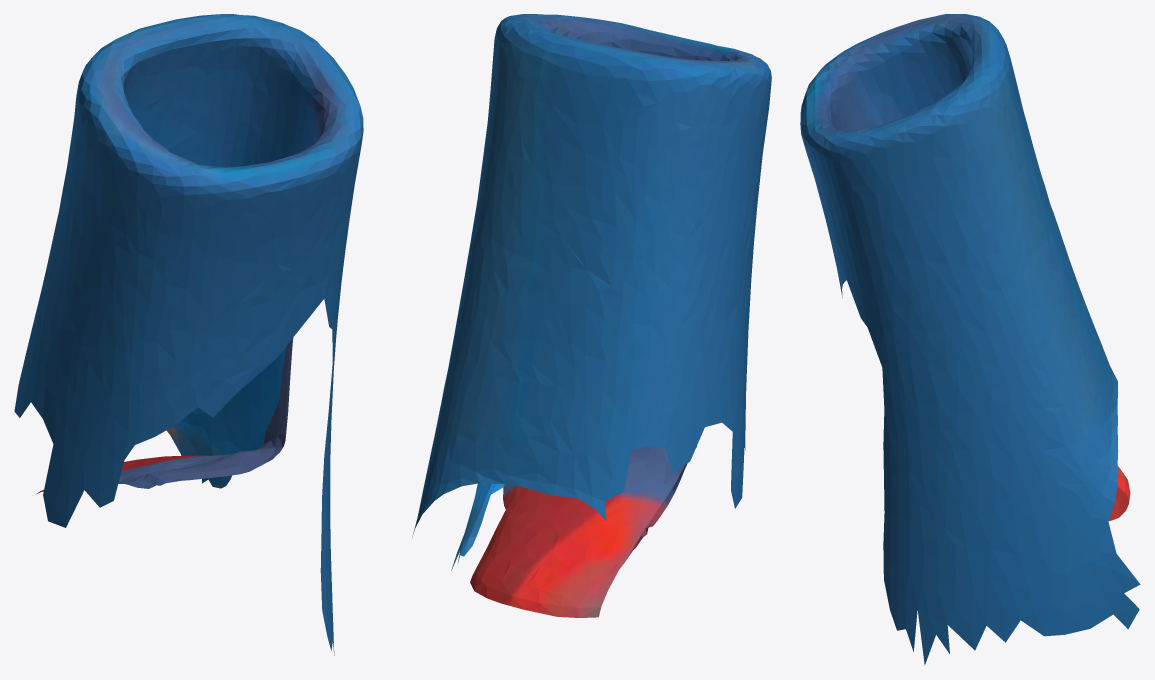
3 renders of one model, left to right at view 1: azimuth 30°, elevation 25°; view 2: azimuth 150°, elevation 25°; view 3: azimuth 270°, elevation 25°, orthographic. The views are drawn at different scales.
Visible parts, largest first — view 1: tripo_mesh_045d8eb0-72ec-4624-9759-a425f321d17a; view 2: tripo_mesh_045d8eb0-72ec-4624-9759-a425f321d17a; view 3: tripo_mesh_045d8eb0-72ec-4624-9759-a425f321d17a.
Part boxes in pixels (x1,y1,x2,y2): tripo_mesh_045d8eb0-72ec-4624-9759-a425f321d17a: (14, 14, 363, 655); tripo_mesh_045d8eb0-72ec-4624-9759-a425f321d17a: (412, 14, 771, 617); tripo_mesh_045d8eb0-72ec-4624-9759-a425f321d17a: (800, 14, 1140, 665).
Size of the model in its own units: 0.0771 by 0.1703 by 0.0925.
1 material, 1 textured.
